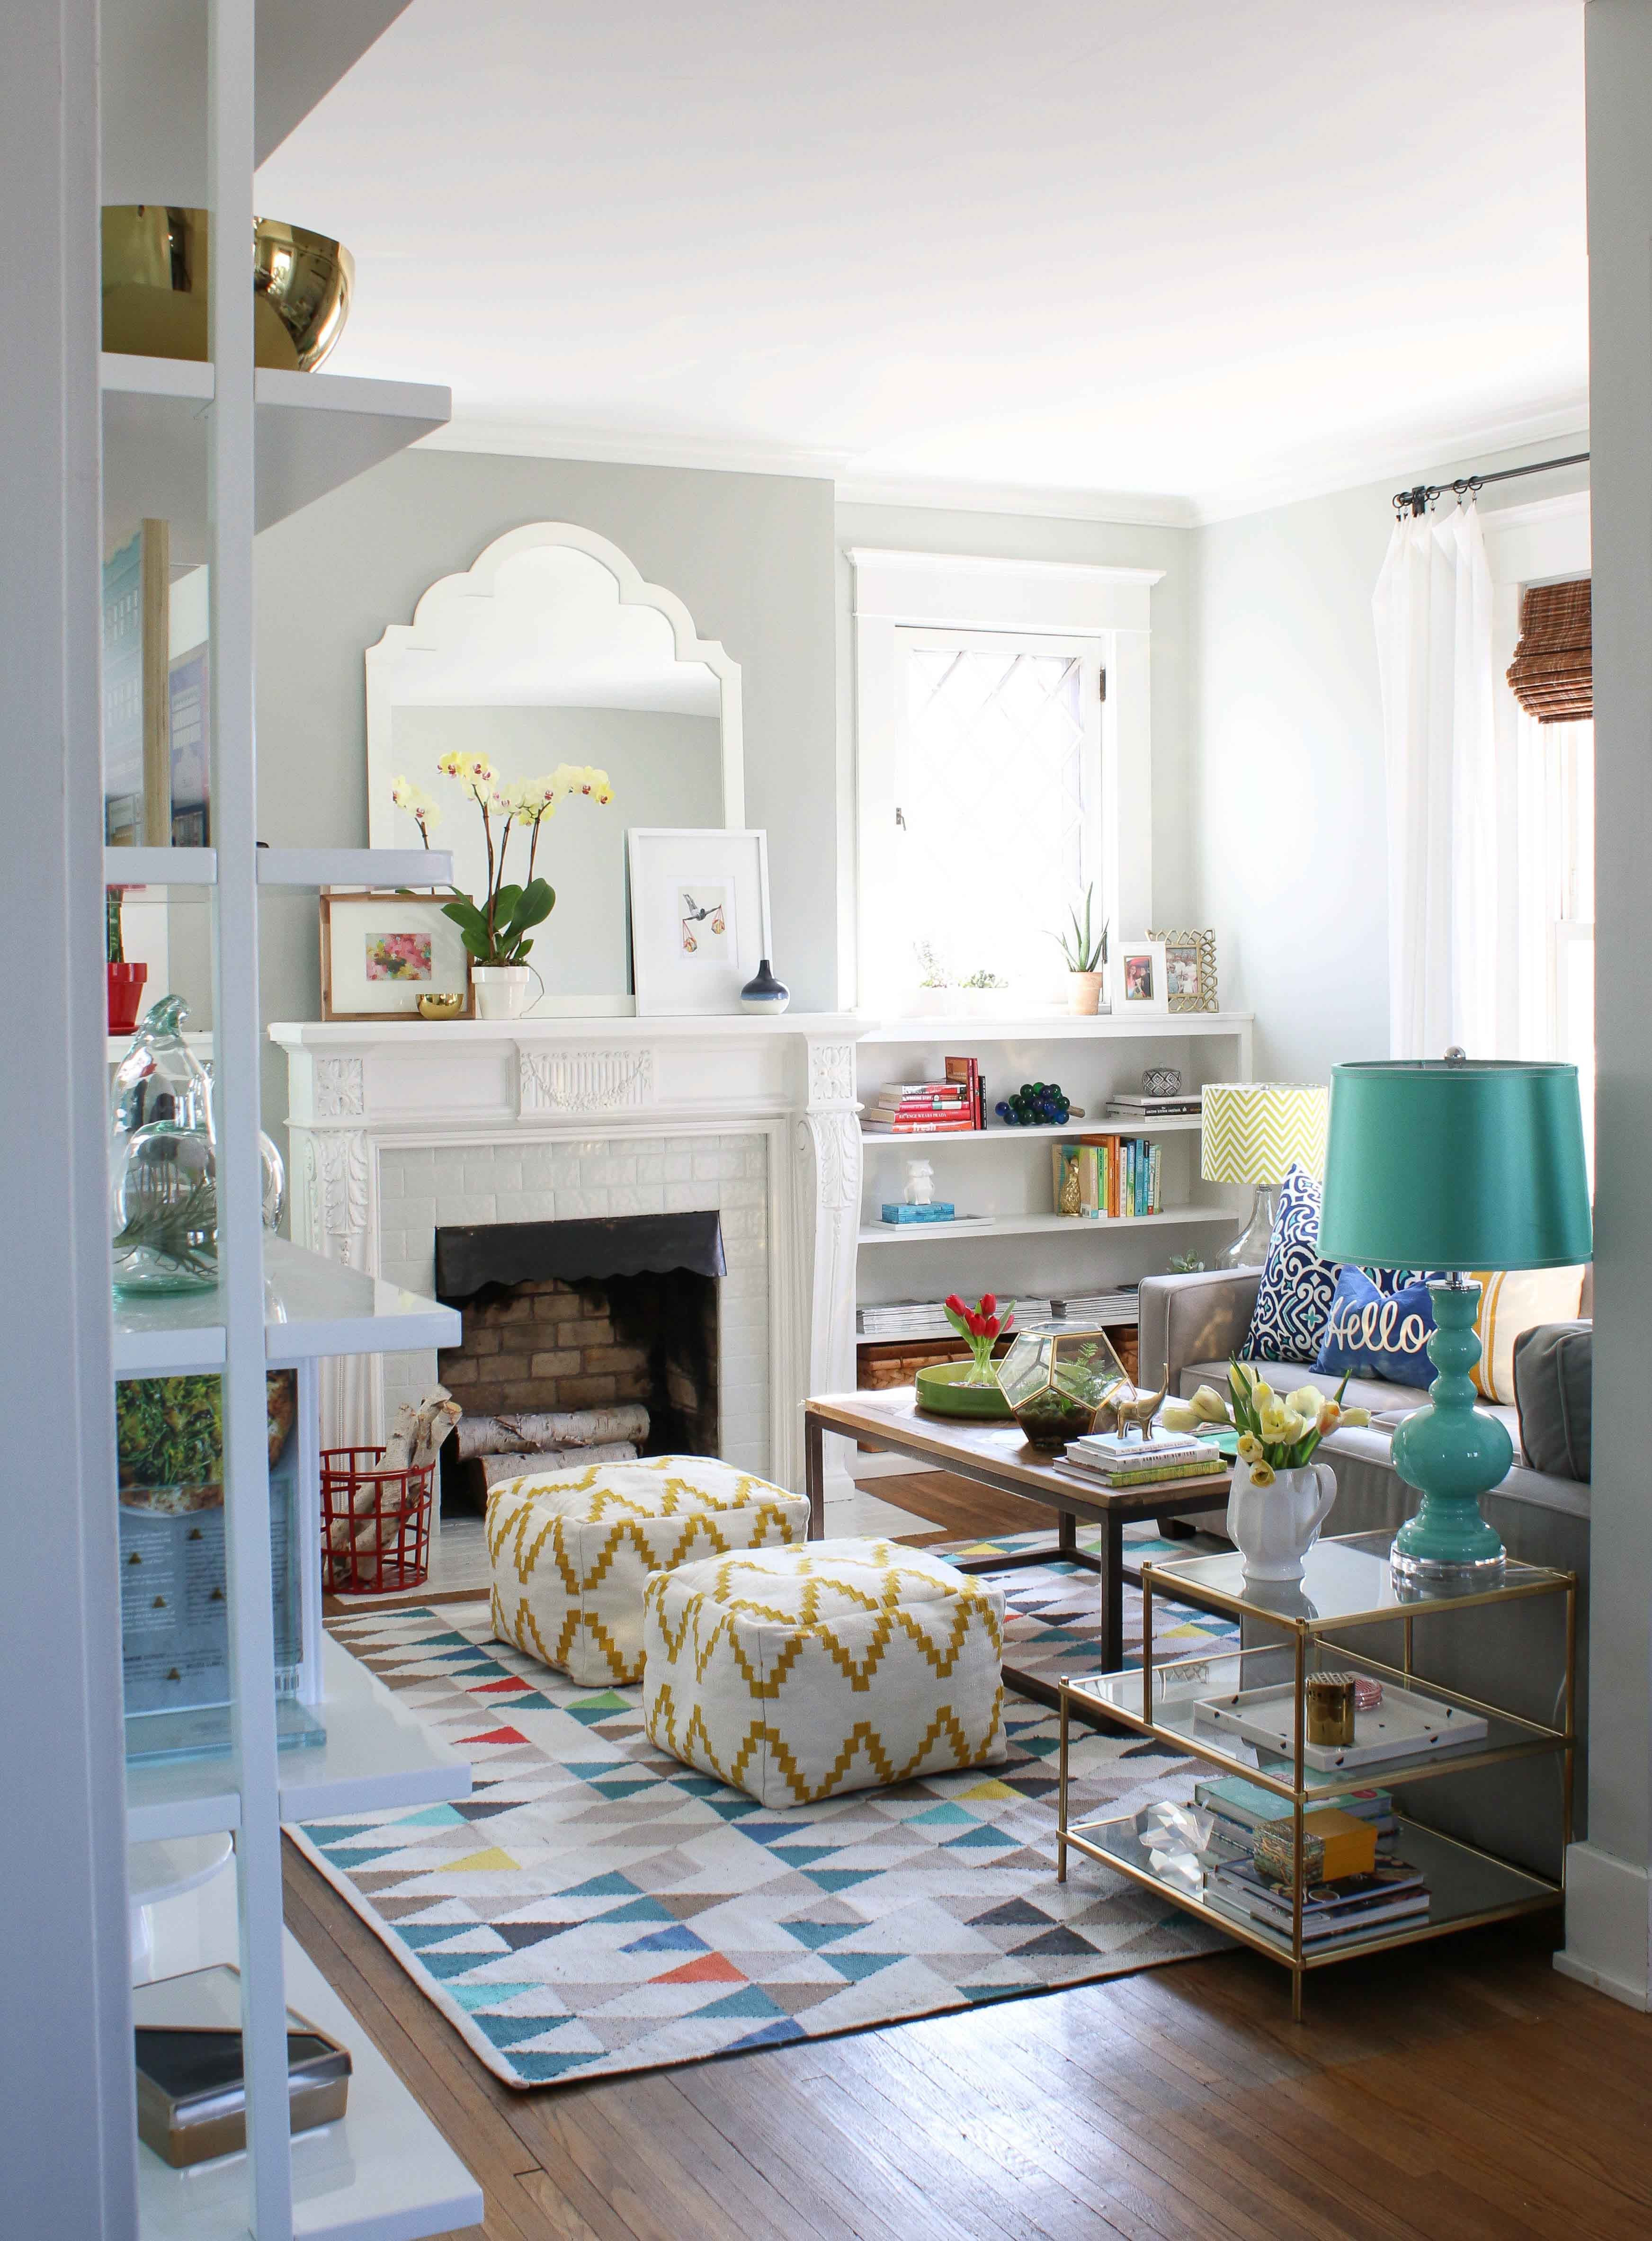hijau: (1337, 1063, 1582, 1545)
putih: (1226, 1470, 1318, 1587), (467, 966, 531, 1016)
